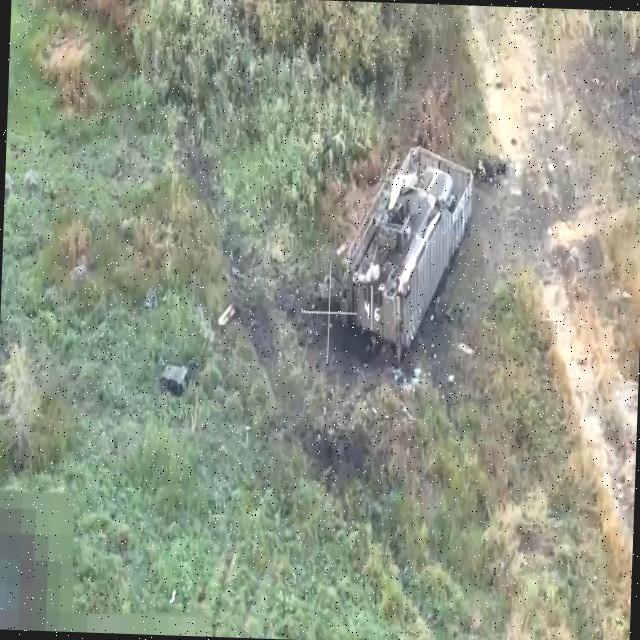Vehicle: (337, 141, 479, 361)
